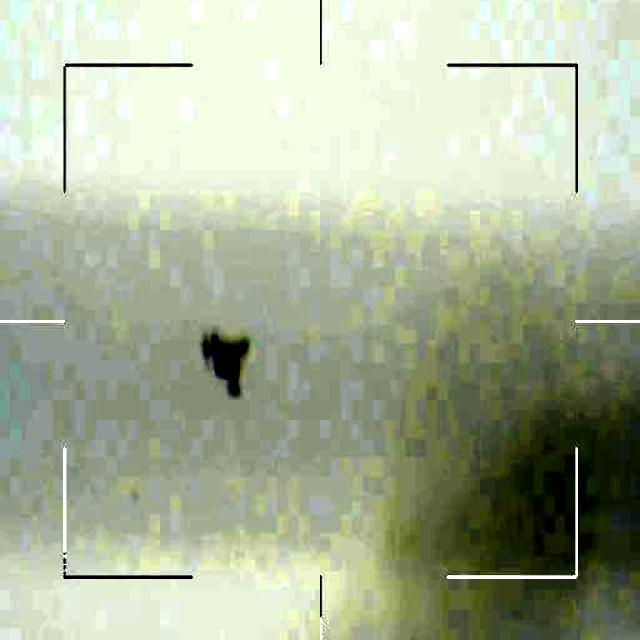bird: (189, 316, 260, 398)
